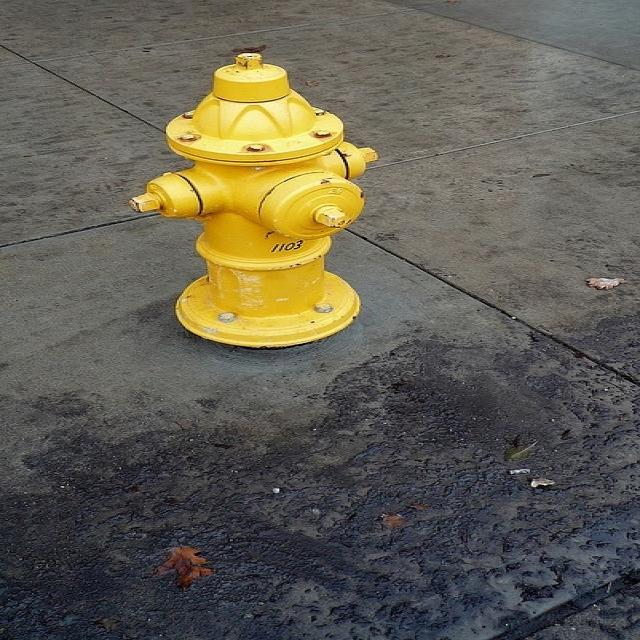fire_hydrant: (107, 53, 420, 421)
